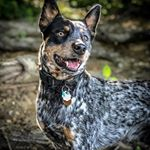puppy: (36, 2, 150, 141)
